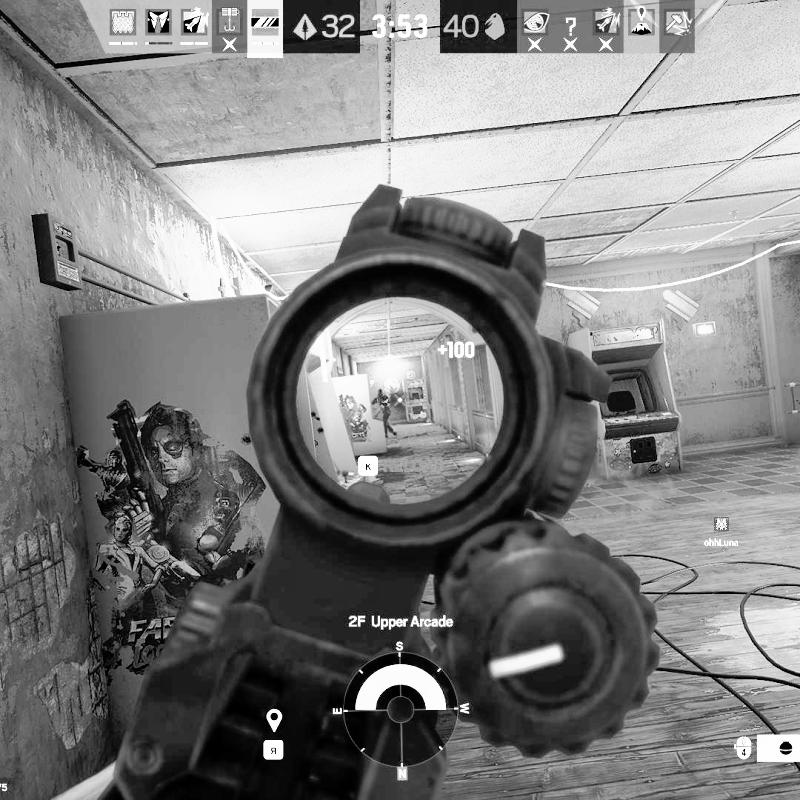Character: (370, 388, 399, 439)
Friend_label: (703, 516, 741, 547)
